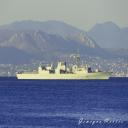Fragata: (17, 47, 115, 82)
